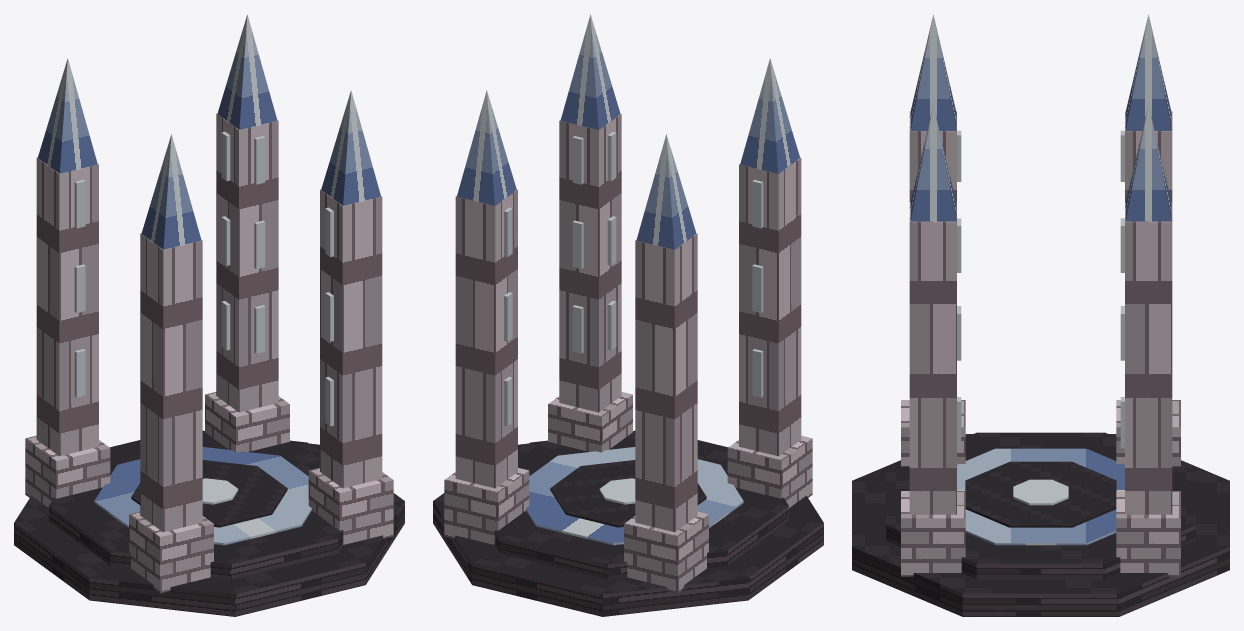
File: teleporter_B_aktiv.glb
The picture shows the model from 3 angles, left to right: view 1: azimuth 30°, elevation 25°; view 2: azimuth 150°, elevation 25°; view 3: azimuth 270°, elevation 25°; orthographic projection. The views are drawn at different scales.
Parts seen in each view (by area): view 1: body, glow; view 2: body, glow; view 3: body, glow.
Part boxes in pixels (x1,y1,x2,y2): body: [14, 113, 404, 616]; glow: [38, 14, 380, 545]; body: [433, 113, 823, 616]; glow: [457, 14, 799, 545]; body: [852, 111, 1229, 616]; glow: [910, 14, 1171, 545].
Size of the model in its own units: 1.76 by 2.45 by 1.76.
1 material, 1 textured.
